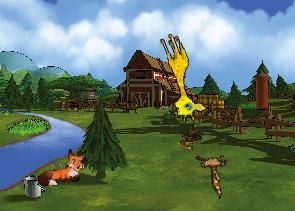eagle: (184, 141, 243, 199)
fox: (34, 147, 90, 188)
giraffe: (148, 30, 209, 125)
